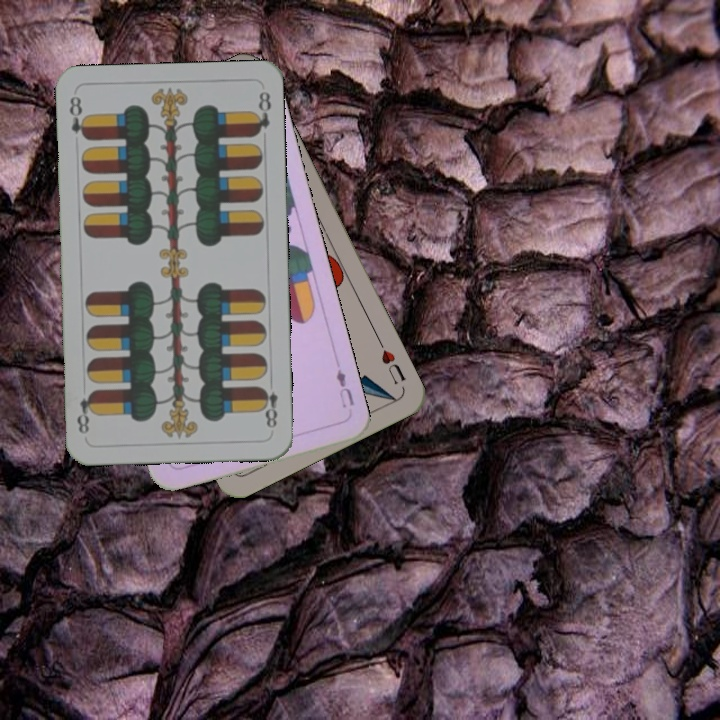E8: (257, 375, 280, 431), (65, 92, 90, 142)
EU: (332, 365, 357, 411)
HU: (374, 335, 408, 388)
